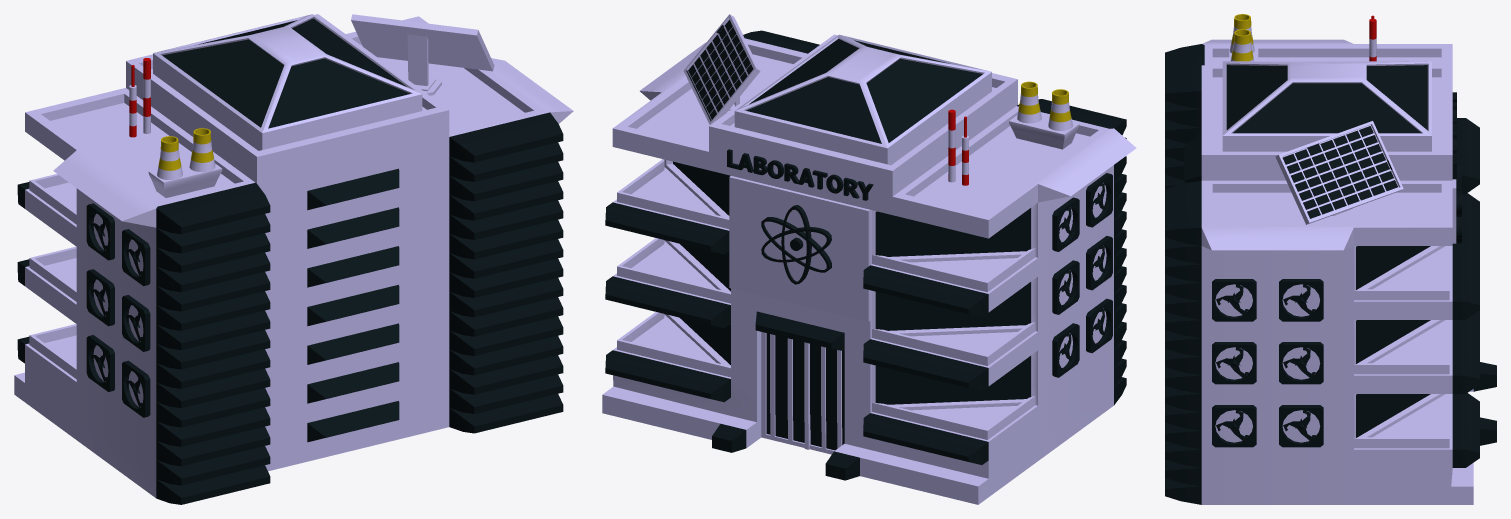
File: science-lab.fbx
3 views of the same model, side by side, from view 1: azimuth 30°, elevation 25°; view 2: azimuth 150°, elevation 25°; view 3: azimuth 270°, elevation 25° (orthographic). The views are drawn at different scales.
Parts seen in each view (by area): view 1: Lab, PV, Würfel_1_15, Würfel_2, Röhre_14, Röhre_1, Würfel_1_5, Würfel_1_3, Würfel_1_6, Würfel_1, Würfel_1_2, Würfel_1_4; view 2: Lab, PV, Extrudieren, Würfel_1_15, Röhre_14, Röhre_1, Extrudieren_1, Extrudieren_3, Würfel_1_6, Würfel_1_4, Würfel_1_5, Würfel_1 (+3 smaller); view 3: Lab, PV, Würfel_1_8, Würfel_1_12, Würfel_1_11, Würfel_1_7, Würfel_1_9, Würfel_1_10, Röhre_14, Extrudieren, Röhre_1.
Part boxes in pixels (box(x1,y1,x2,y2)): Lab: box(14, 14, 573, 504); PV: box(351, 14, 494, 71); Würfel_1_15: box(148, 161, 222, 197); Würfel_2: box(407, 34, 428, 85); Röhre_14: box(189, 128, 215, 172); Röhre_1: box(157, 136, 182, 180); Würfel_1_5: box(86, 269, 114, 326); Würfel_1_3: box(122, 229, 150, 285); Würfel_1_6: box(86, 203, 114, 260); Würfel_1: box(122, 360, 150, 417); Würfel_1_2: box(122, 295, 150, 351); Würfel_1_4: box(86, 335, 114, 391); Lab: box(602, 30, 1136, 504); PV: box(683, 14, 760, 124); Extrudieren: box(727, 149, 873, 200); Würfel_1_15: box(1009, 115, 1079, 149); Röhre_14: box(1017, 81, 1041, 123); Röhre_1: box(1048, 89, 1072, 130); Extrudieren_1: box(761, 217, 831, 272); Extrudieren_3: box(781, 205, 811, 284); Würfel_1_6: box(1052, 197, 1079, 251); Würfel_1_4: box(1052, 323, 1079, 377); Würfel_1_5: box(1052, 260, 1079, 314); Würfel_1: box(1086, 298, 1112, 353); Lab: box(1165, 39, 1496, 504); PV: box(1275, 121, 1403, 224); Würfel_1_8: box(1279, 342, 1323, 384); Würfel_1_12: box(1212, 279, 1256, 321); Würfel_1_11: box(1212, 342, 1256, 384); Würfel_1_7: box(1279, 405, 1323, 447); Würfel_1_9: box(1279, 279, 1323, 321); Würfel_1_10: box(1212, 405, 1256, 447); Röhre_14: box(1230, 29, 1253, 61); Extrudieren: box(1452, 92, 1456, 179); Röhre_1: box(1229, 14, 1254, 53).
Size of the model in its own units: 4074 by 3083 by 2709.
